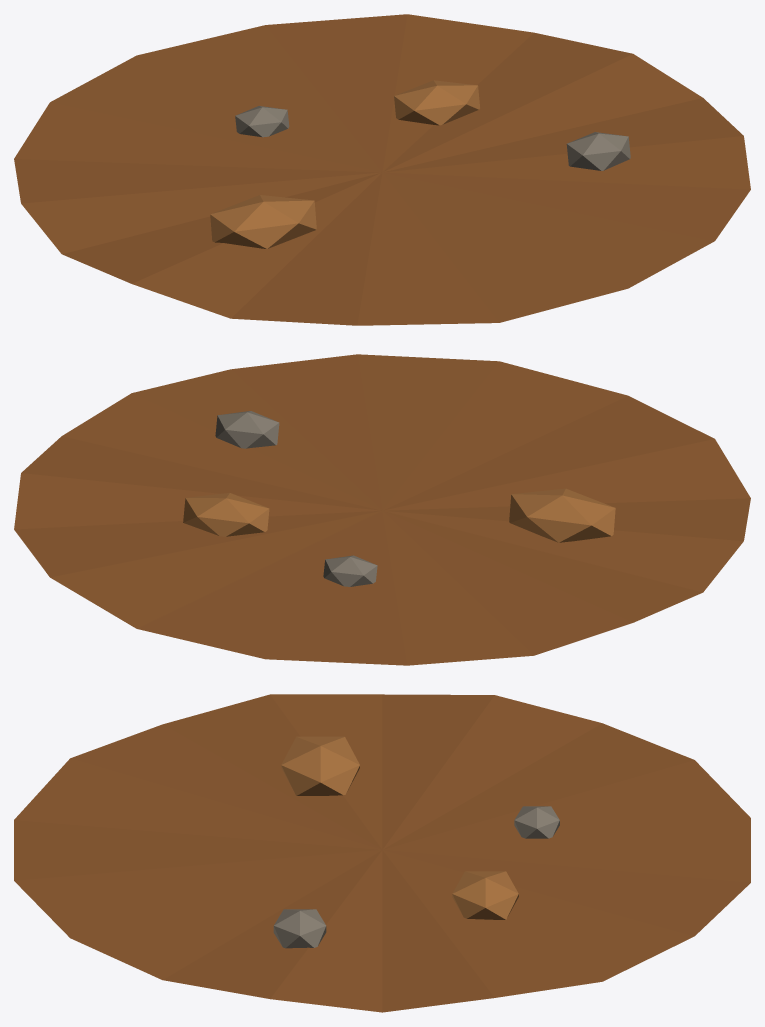
File: filled-earth.glb
3 views of the same model, one above another, from view 1: azimuth 30°, elevation 25°; view 2: azimuth 150°, elevation 25°; view 3: azimuth 270°, elevation 25° (orthographic).
Visible parts, largest first — view 1: Disturbed filled earth, Filled earth surface detail 1, Filled earth surface detail 2, Filled earth surface detail 3, Filled earth surface detail 4; view 2: Disturbed filled earth, Filled earth surface detail 1, Filled earth surface detail 2, Filled earth surface detail 3, Filled earth surface detail 4; view 3: Disturbed filled earth, Filled earth surface detail 1, Filled earth surface detail 2, Filled earth surface detail 3, Filled earth surface detail 4.
Boxes of the visible parts, x1=… form: Disturbed filled earth: x1=14, y1=14, x2=750, y2=325; Filled earth surface detail 1: x1=210, y1=195, x2=316, y2=248; Filled earth surface detail 2: x1=394, y1=80, x2=479, y2=125; Filled earth surface detail 3: x1=566, y1=132, x2=630, y2=170; Filled earth surface detail 4: x1=235, y1=106, x2=289, y2=137; Disturbed filled earth: x1=14, y1=354, x2=750, y2=665; Filled earth surface detail 1: x1=509, y1=488, x2=615, y2=542; Filled earth surface detail 2: x1=183, y1=493, x2=269, y2=536; Filled earth surface detail 3: x1=215, y1=411, x2=279, y2=448; Filled earth surface detail 4: x1=323, y1=555, x2=377, y2=586; Disturbed filled earth: x1=14, y1=694, x2=750, y2=1012; Filled earth surface detail 1: x1=281, y1=736, x2=359, y2=795; Filled earth surface detail 2: x1=452, y1=871, x2=518, y2=919; Filled earth surface detail 3: x1=273, y1=909, x2=326, y2=948; Filled earth surface detail 4: x1=514, y1=806, x2=559, y2=838.
Bounding box in the file's own units: 0.73 × 0.044 × 0.7151.
